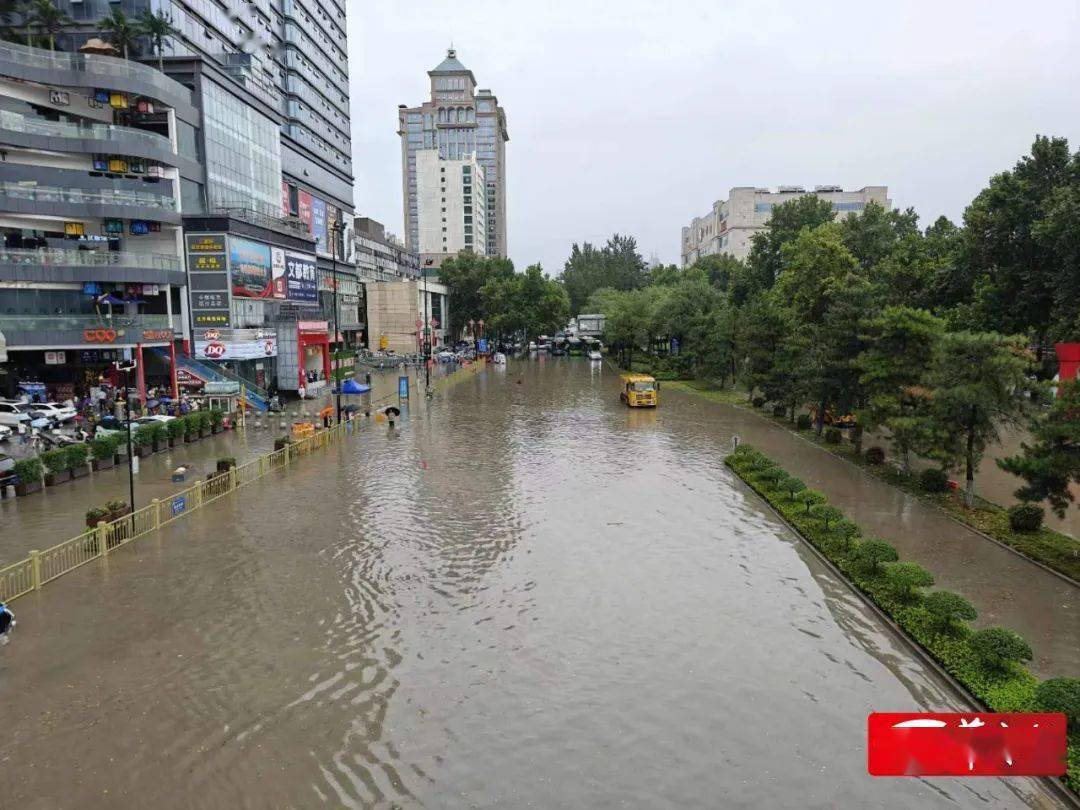puddle: (1, 421, 1071, 809)
